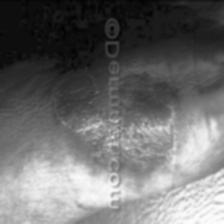Unclassified: (119, 72, 179, 176), (52, 65, 94, 130)
